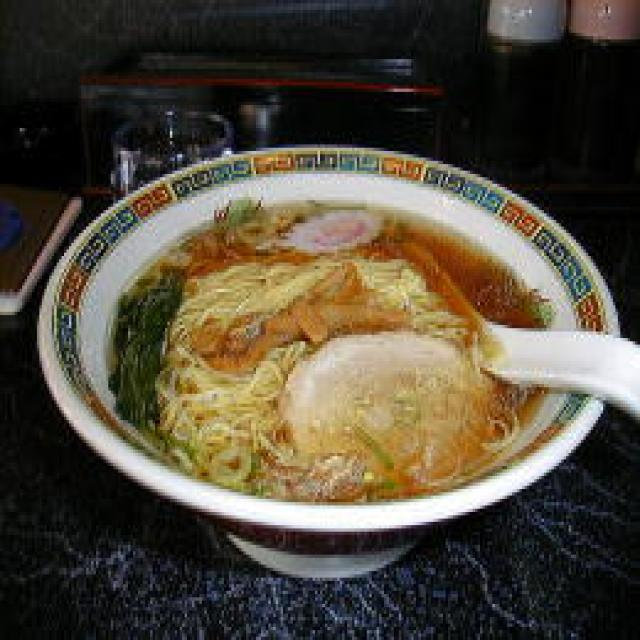面条主食: (39, 138, 628, 581)
